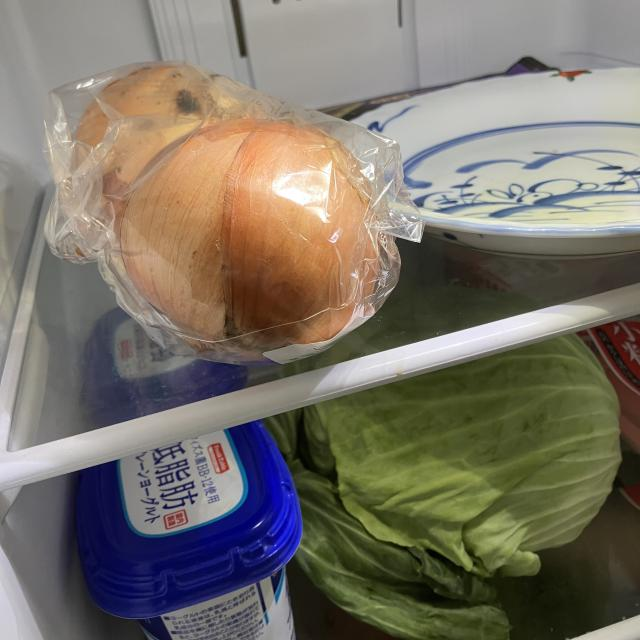cabbage: (260, 329, 624, 640)
onion: (117, 120, 386, 370), (68, 62, 260, 228)
